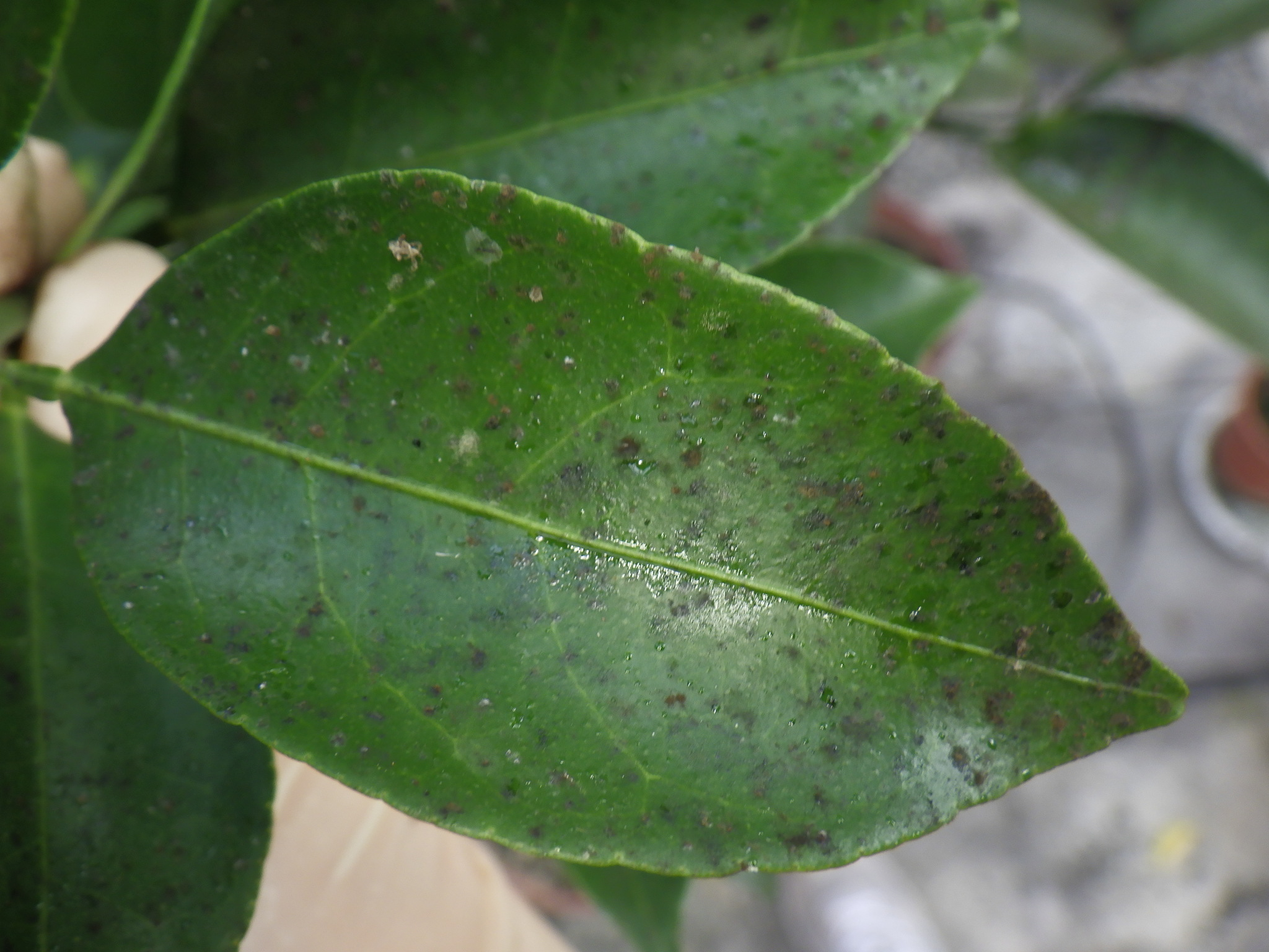Sooty_Mold: (0, 169, 1185, 876)
